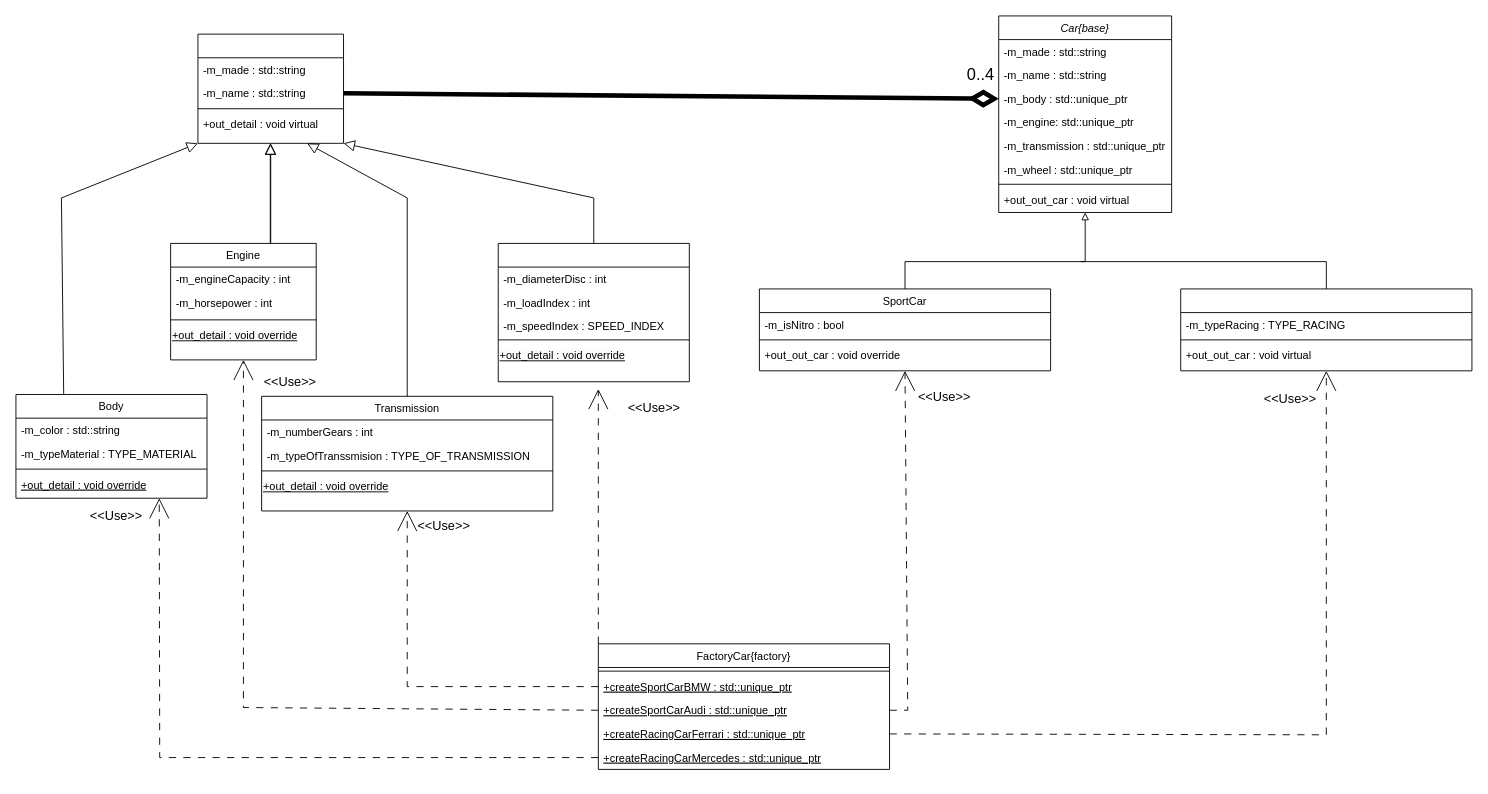
The diagram is 1488 pixels wide and 794 high, and some of its shapes have lost their labels. Here are the shapes that lost their labels. From the top down, the box of each, then its label:
(197, 33, 344, 143): Detail{base}
(497, 243, 689, 382): Wheel
(1180, 288, 1472, 371): RacingCar
